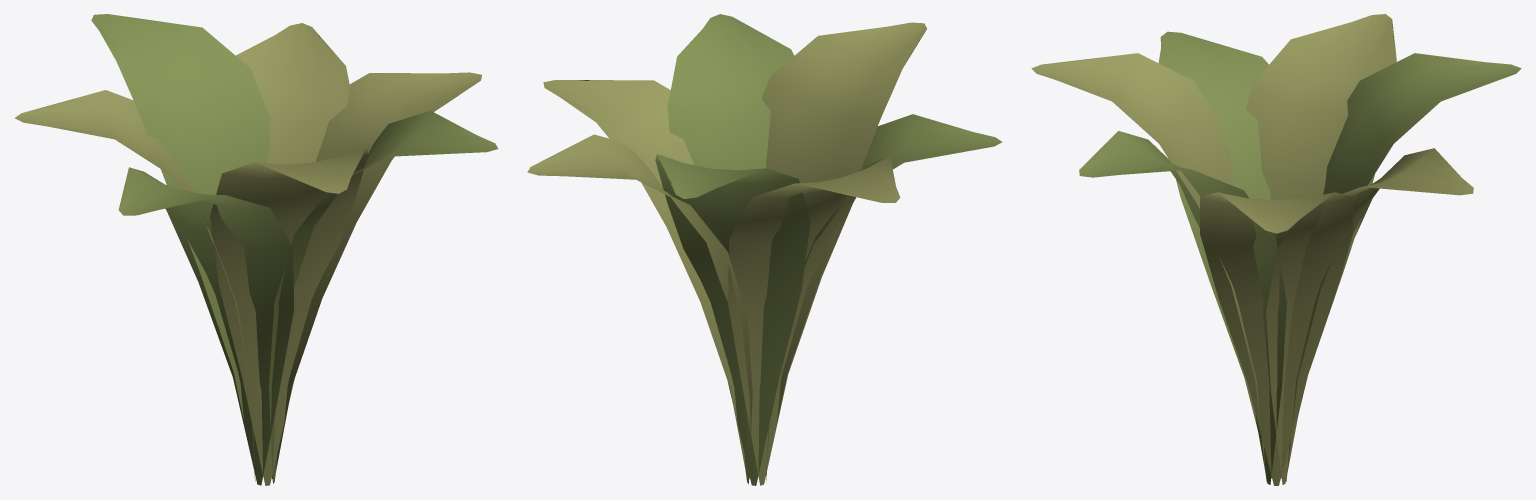
The model's file is lettuce-tuft.glb.
The picture shows the model from 3 angles, left to right: view 1: azimuth 30°, elevation 25°; view 2: azimuth 150°, elevation 25°; view 3: azimuth 270°, elevation 25°; orthographic projection. The views are drawn at different scales.
Parts seen in each view (by area): view 1: lettuce-tuft; view 2: lettuce-tuft; view 3: lettuce-tuft.
Boxes of the visible parts, x1=… form: lettuce-tuft: x1=14, y1=14, x2=498, y2=485; lettuce-tuft: x1=527, y1=14, x2=1002, y2=485; lettuce-tuft: x1=1031, y1=14, x2=1521, y2=485.
Bounding box in the file's own units: 0.5 × 0.45 × 0.5129.
